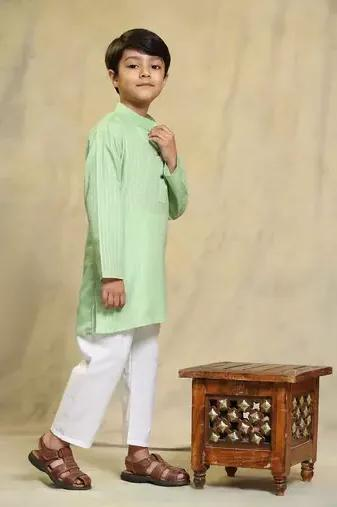Human: (33, 16, 213, 493)
